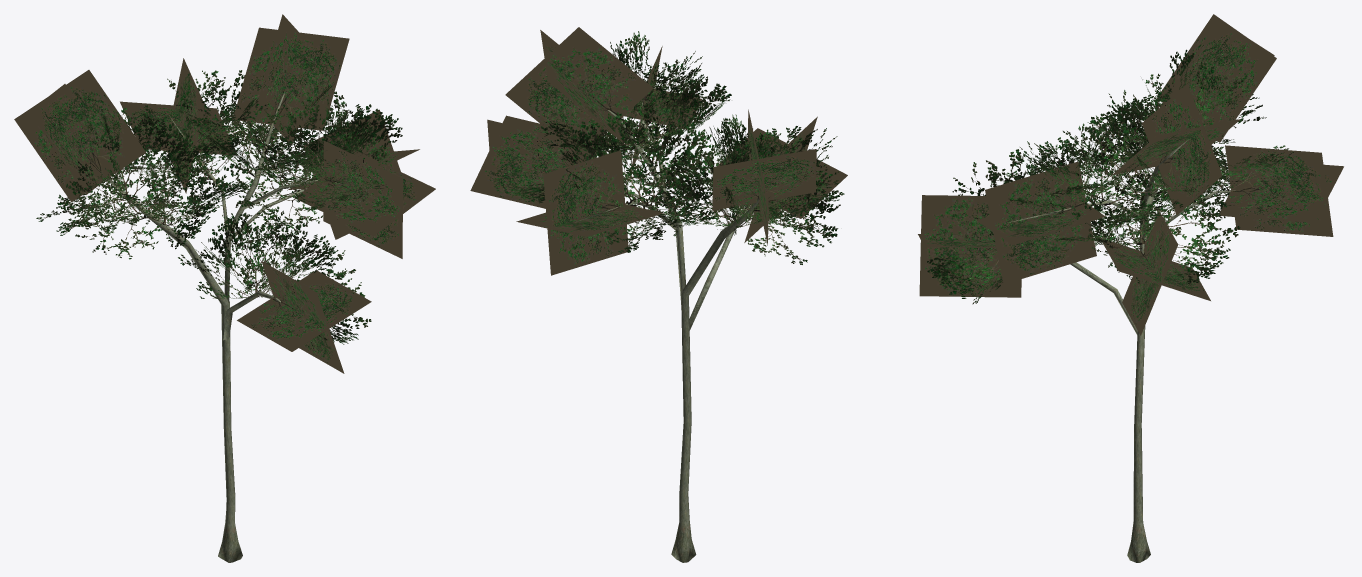
Rendered from nboo_decd_cambylictustree_l0.fbx.
3 renders of one model, left to right at view 1: azimuth 30°, elevation 25°; view 2: azimuth 150°, elevation 25°; view 3: azimuth 270°, elevation 25°, orthographic. The views are drawn at different scales.
Parts seen in each view (by area): view 1: mesh_node; view 2: mesh_node; view 3: mesh_node.
Boxes of the visible parts, <box> form: mesh_node: <box>14,14,435,562</box>; mesh_node: <box>470,27,847,562</box>; mesh_node: <box>918,14,1343,562</box>.
Bounding box in the file's own units: 41.38 × 54.84 × 43.41.
